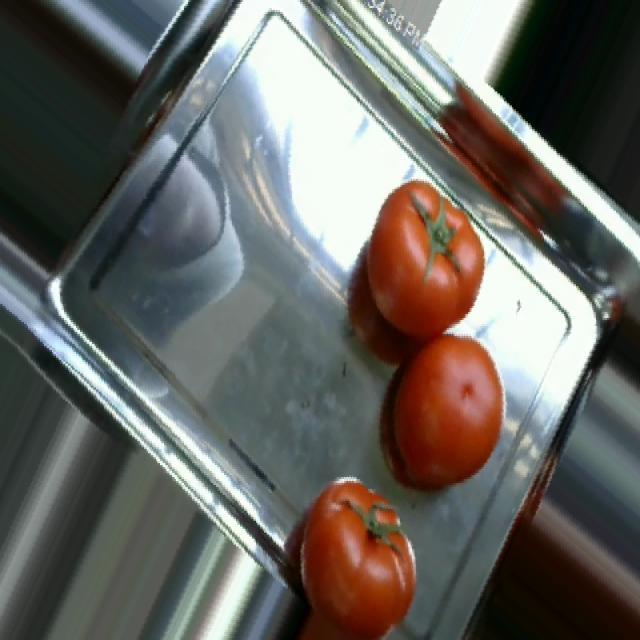kirmizi: (288, 160, 504, 640)
